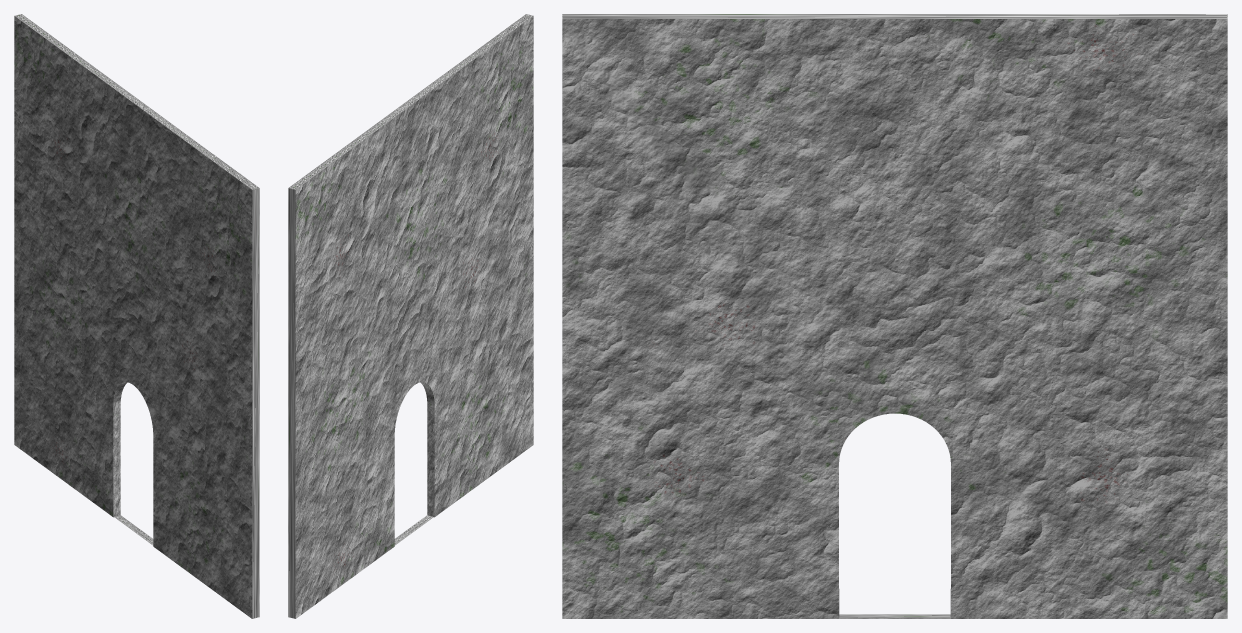
Rendered from Concrete_DoorWall.fbx.
The picture shows the model from 3 angles, left to right: view 1: azimuth 30°, elevation 25°; view 2: azimuth 150°, elevation 25°; view 3: azimuth 270°, elevation 25°; orthographic projection. The views are drawn at different scales.
Parts seen in each view (by area): view 1: Cube; view 2: Cube; view 3: Cube.
Part boxes in pixels (box(x1,y1,x2,y2)): Cube: box(14, 14, 259, 618); Cube: box(288, 14, 533, 618); Cube: box(562, 14, 1227, 618).
Size of the model in its own units: 14.54 by 797 by 800.
